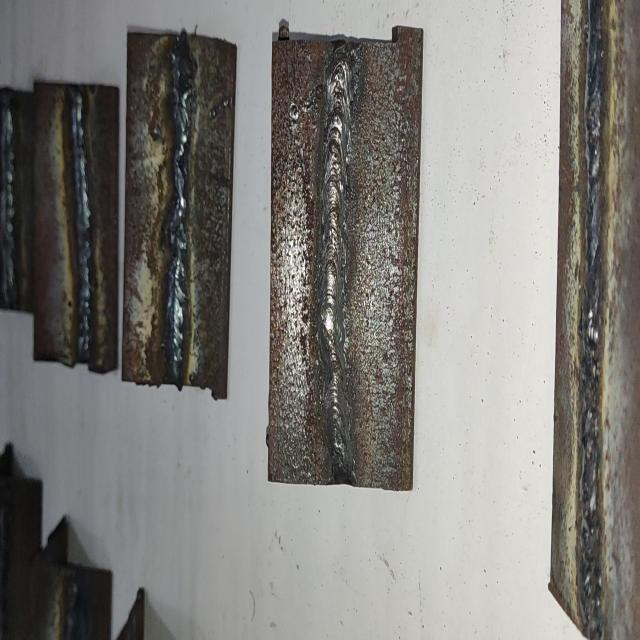Good Weld: (579, 0, 606, 634), (319, 47, 355, 475), (165, 43, 194, 370), (67, 84, 95, 362)
